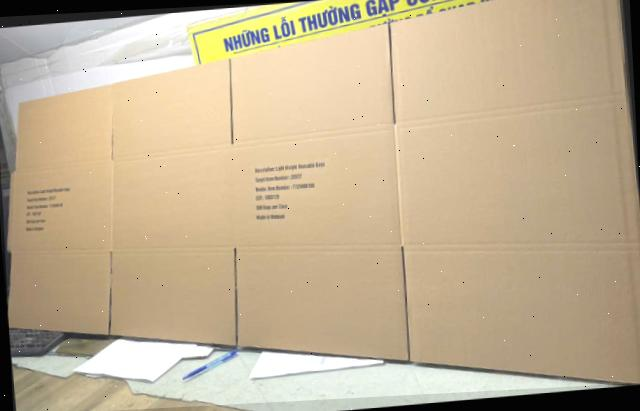box: (8, 0, 640, 382)
